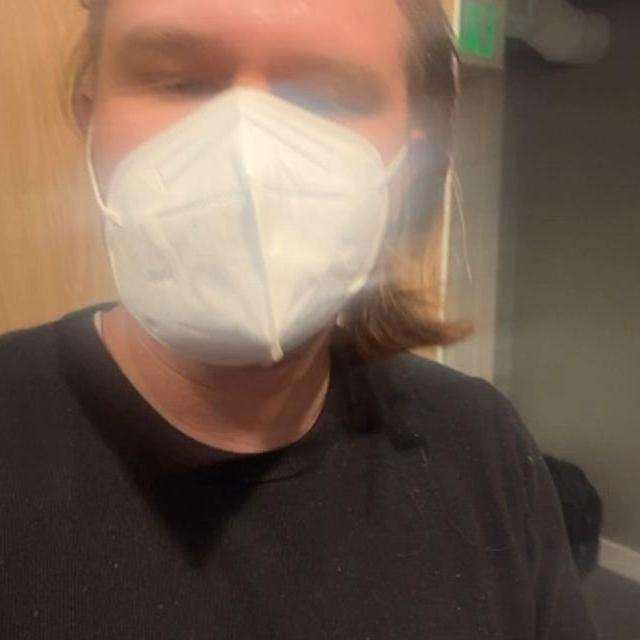Mask: (79, 89, 410, 372)
NO-Safety Vest: (0, 310, 533, 640)
Person: (0, 0, 622, 640)
